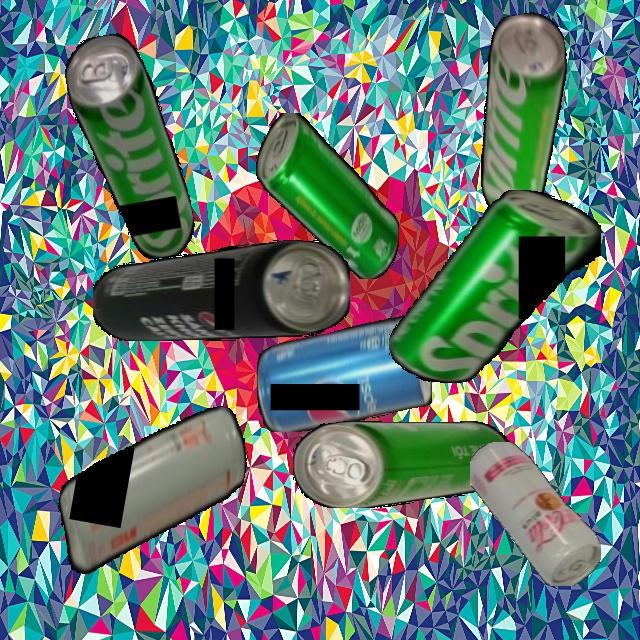debris: (48, 382, 255, 598), (389, 189, 601, 383), (60, 26, 199, 268), (454, 8, 593, 225), (92, 240, 350, 341), (255, 112, 399, 279), (256, 314, 432, 432), (293, 420, 510, 508), (470, 441, 601, 586)
